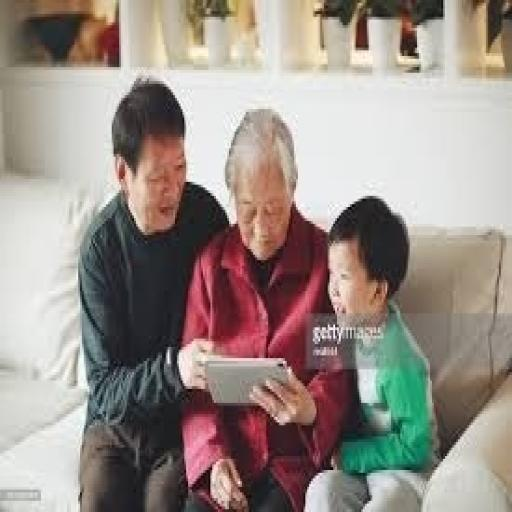using_laptop: (200, 352, 290, 408)
